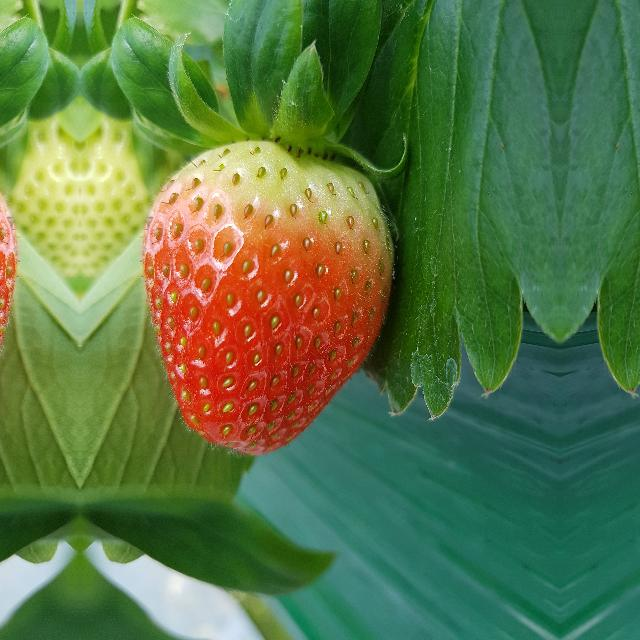Health_75: (138, 140, 396, 456)
